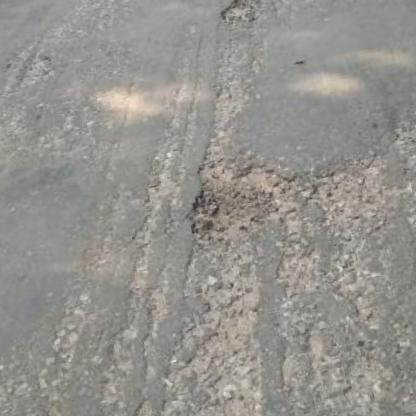pothole: (177, 150, 306, 248), (215, 0, 260, 31)
